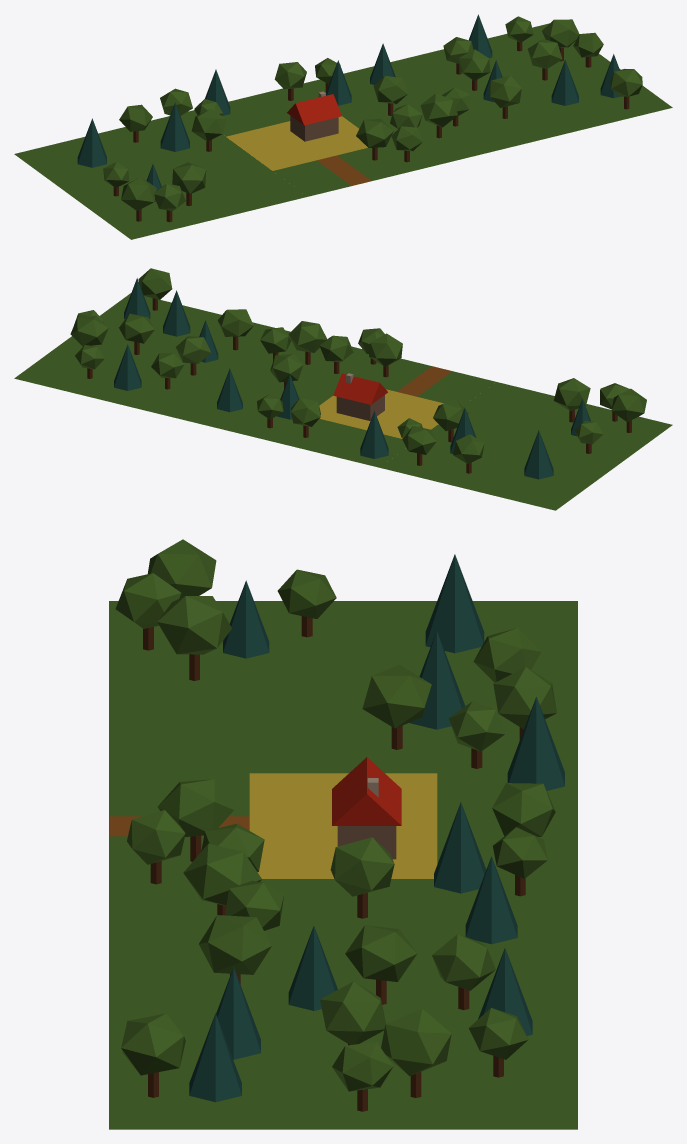
File: woodsB.glb
3 views of the same model, one above another, from view 1: azimuth 30°, elevation 25°; view 2: azimuth 150°, elevation 25°; view 3: azimuth 270°, elevation 25° (orthographic). The views are drawn at different scales.
Visible parts, largest first — view 1: P3, P2, P1, P8, P4, P5, P6, R10, C41, N32, N76, C61 (+29 smaller); view 2: P3, P2, P8, P1, P4, P5, P6, R10, C57, N76, C41, C61 (+27 smaller); view 3: P3, P2, P1, P8, P4, P5, R10, C27, N76, C57, C61, C23 (+31 smaller).
Part boxes in pixels (left/top/right/bottom): P3: left=305, top=31, right=672, bottom=170; P2: left=20, top=115, right=307, bottom=239; P1: left=226, top=116, right=367, bottom=170; P8: left=14, top=23, right=549, bottom=158; P4: left=197, top=89, right=316, bottom=136; P5: left=273, top=160, right=351, bottom=196; P6: left=337, top=147, right=415, bottom=180; R10: left=287, top=94, right=341, bottom=125; C41: left=420, top=93, right=457, bottom=127; N32: left=160, top=102, right=189, bottom=151; N76: left=77, top=118, right=106, bottom=167; C61: left=172, top=162, right=206, bottom=193; P3: left=20, top=293, right=377, bottom=436; P2: left=385, top=382, right=672, bottom=506; P8: left=14, top=374, right=561, bottom=510; P1: left=319, top=389, right=443, bottom=438; P4: left=277, top=419, right=406, bottom=463; P5: left=417, top=371, right=495, bottom=406; P6: left=358, top=358, right=431, bottom=391; R10: left=333, top=373, right=387, bottom=404; C57: left=70, top=315, right=108, bottom=346; N76: left=524, top=430, right=553, bottom=479; C41: left=288, top=321, right=327, bottom=352; C61: left=553, top=378, right=590, bottom=410; P3: left=109, top=879, right=554, bottom=1129; P2: left=109, top=601, right=554, bottom=773; P1: left=249, top=773, right=437, bottom=878; P8: left=554, top=601, right=577, bottom=1129; P4: left=437, top=773, right=554, bottom=878; P5: left=109, top=773, right=249, bottom=816; R10: left=332, top=757, right=401, bottom=825; C27: left=199, top=915, right=271, bottom=974; N76: left=425, top=554, right=484, bottom=653; C57: left=381, top=1009, right=451, bottom=1076; C61: left=157, top=596, right=231, bottom=654; C23: left=121, top=1013, right=185, bottom=1075.
Bounding box in the file's own units: 16 × 1.32 × 6.
